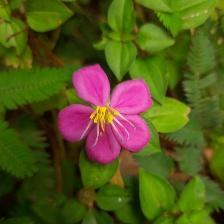malabar melastome: (56, 64, 154, 167)
